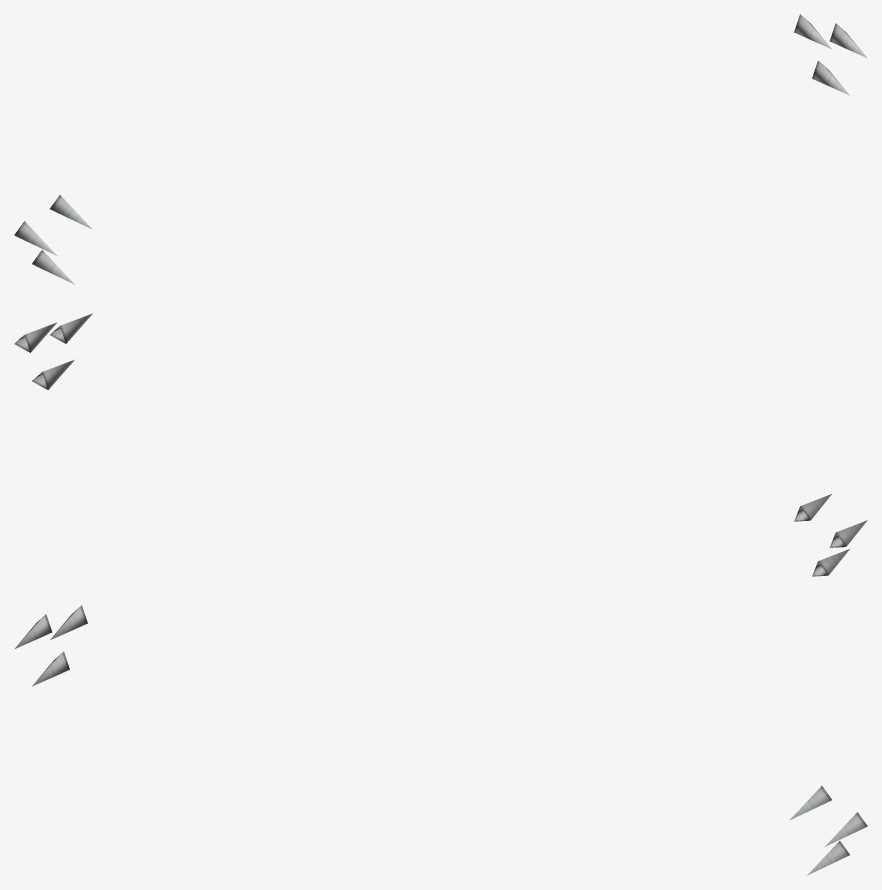
Rendered from hutt_fighter_medium_weapon2_s04_l3.fbx.
The picture shows the model from 3 angles, top to bottom: view 1: azimuth 30°, elevation 25°; view 2: azimuth 150°, elevation 25°; view 3: azimuth 330°, elevation 25°; orthographic projection.
Parts seen in each view (by area): view 1: mesh_node; view 2: mesh_node; view 3: mesh_node.
Boxes of the visible parts, bbox=[...] form: mesh_node: bbox=[14, 14, 866, 284]; mesh_node: bbox=[14, 313, 867, 576]; mesh_node: bbox=[15, 605, 867, 875].
Size of the model in its own units: 3.21 by 0.2488 by 0.2185.
1 material, 1 textured.
